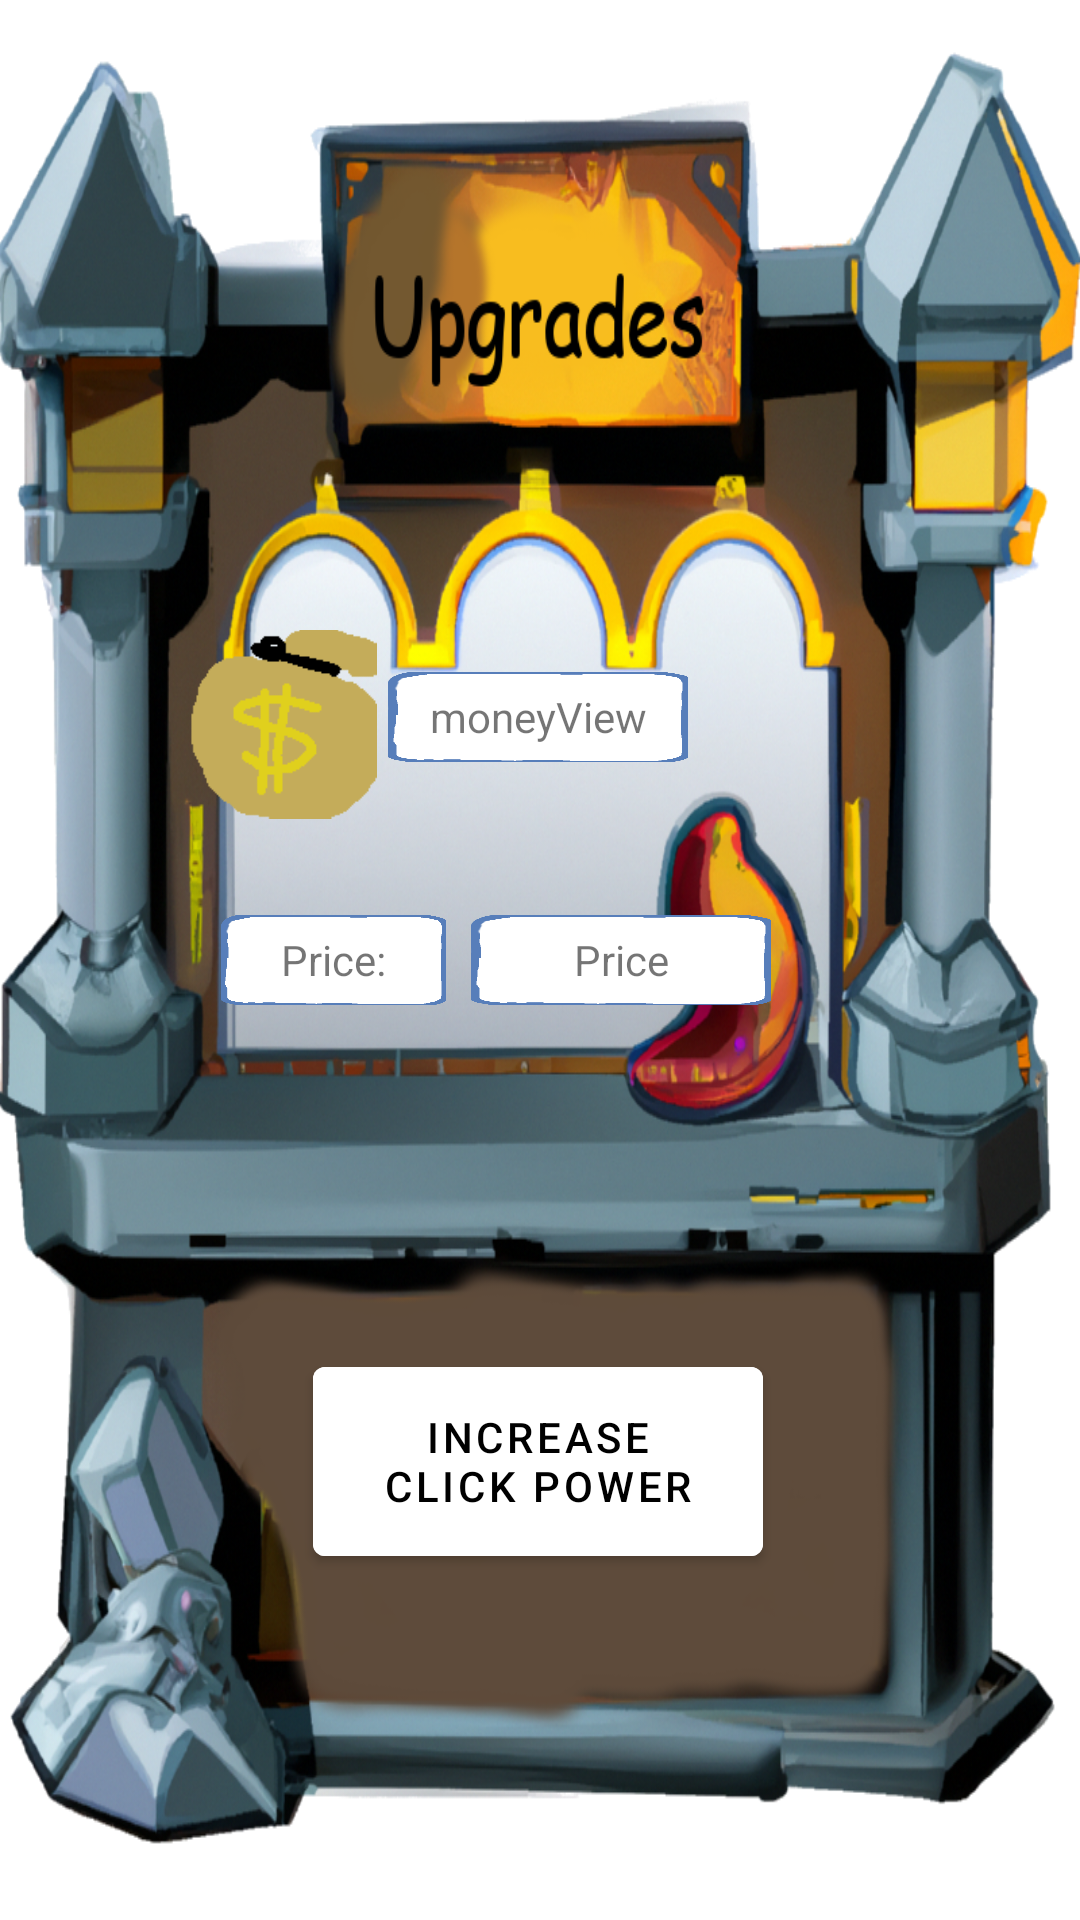

Icon click points for this 1080 x 1920 phone screenshot, format [x,y]:
moneybag: [282,724]
